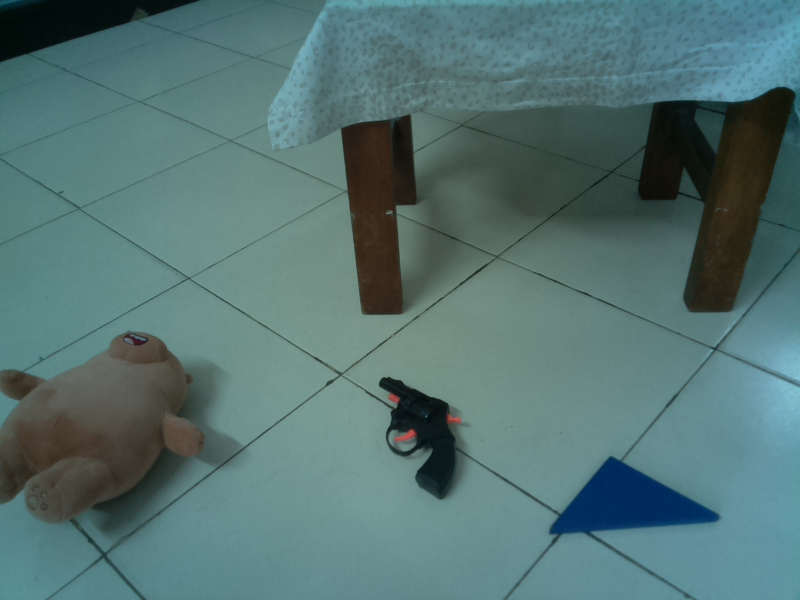Gun: (377, 373, 468, 502)
Triangle: (545, 455, 724, 540)
